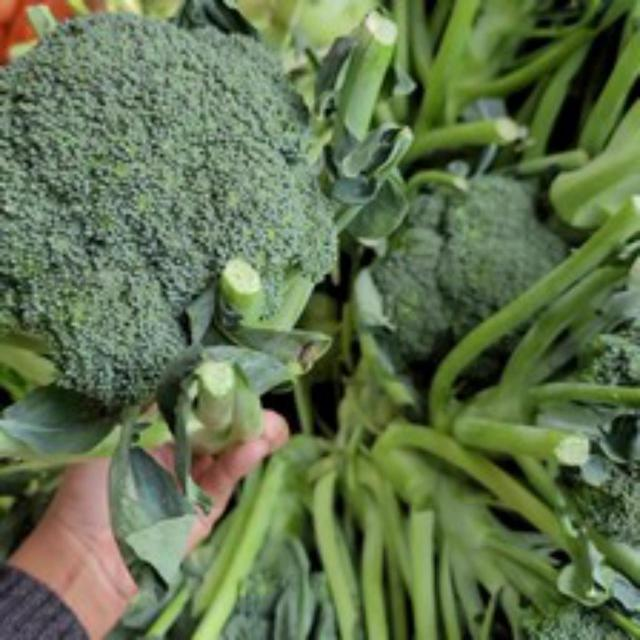broccoli: (4, 0, 362, 415)
